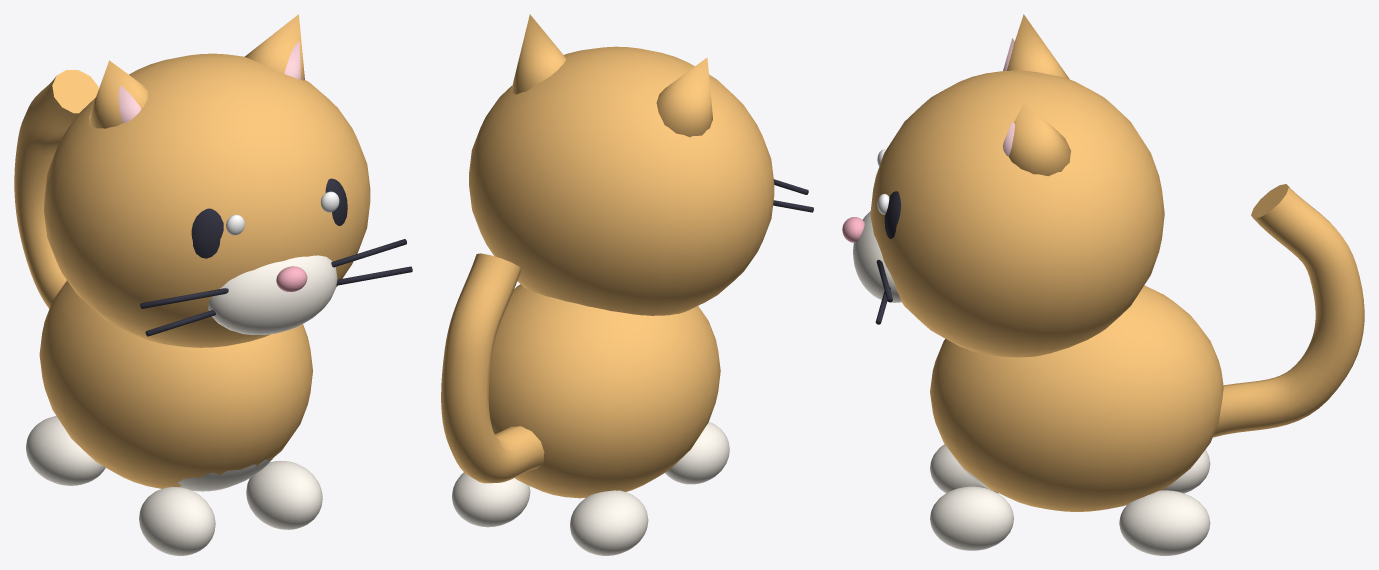
File: Gato.fbx
3 renders of one model, left to right at view 1: azimuth 30°, elevation 25°; view 2: azimuth 150°, elevation 25°; view 3: azimuth 270°, elevation 25°, orthographic. The views are drawn at different scales.
Parts seen in each view (by area): view 1: Gato; view 2: Gato; view 3: Gato.
Boxes of the visible parts, bbox=[...] form: Gato: bbox=[14, 14, 412, 555]; Gato: bbox=[441, 14, 813, 555]; Gato: bbox=[842, 14, 1364, 555].
Bounding box in the file's own units: 0.92 × 1.46 × 1.49.
